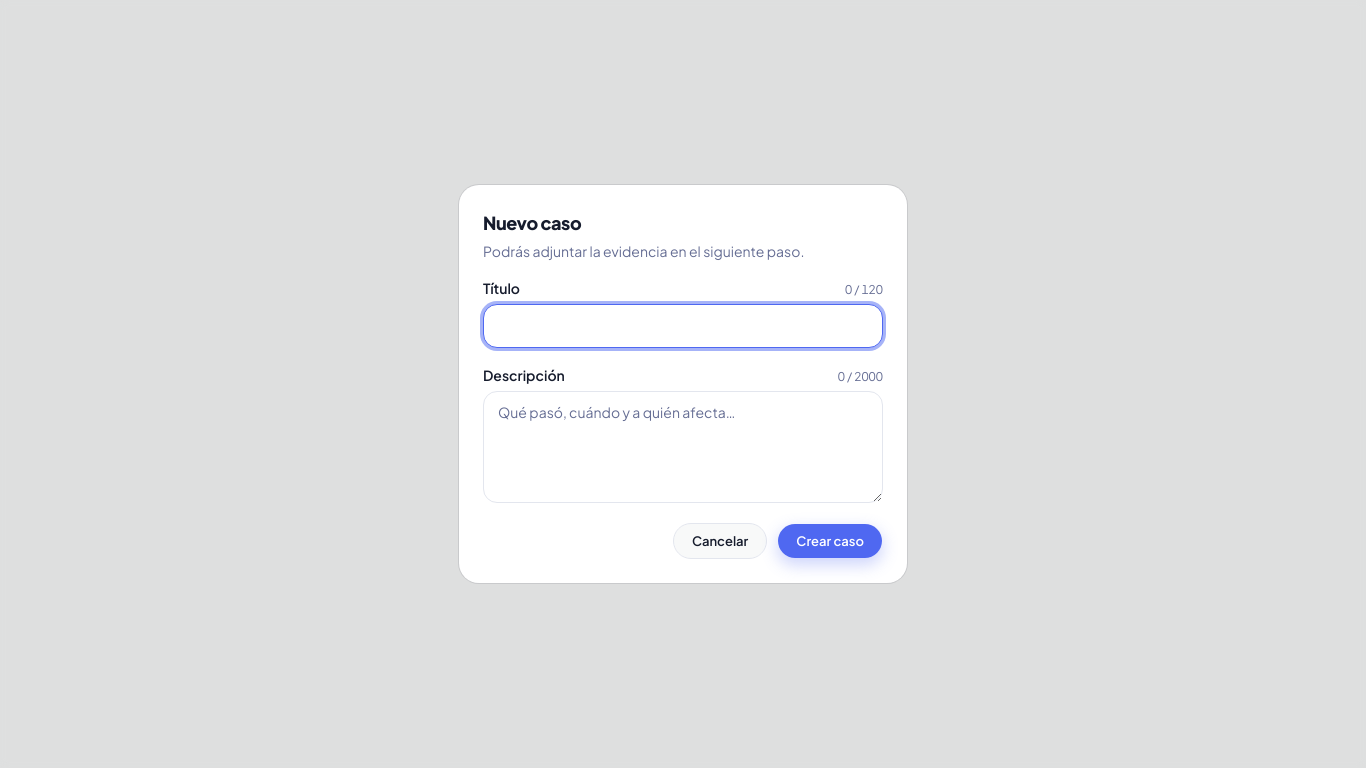
Test case: CaseFormDialog · a failed save › shows a field error under its field, with no notice
The width and height of the screenshot is (1366, 768).
In the field labelled "Título": (683, 326) top-left (483, 304), bottom-right (883, 348), type "Robo"
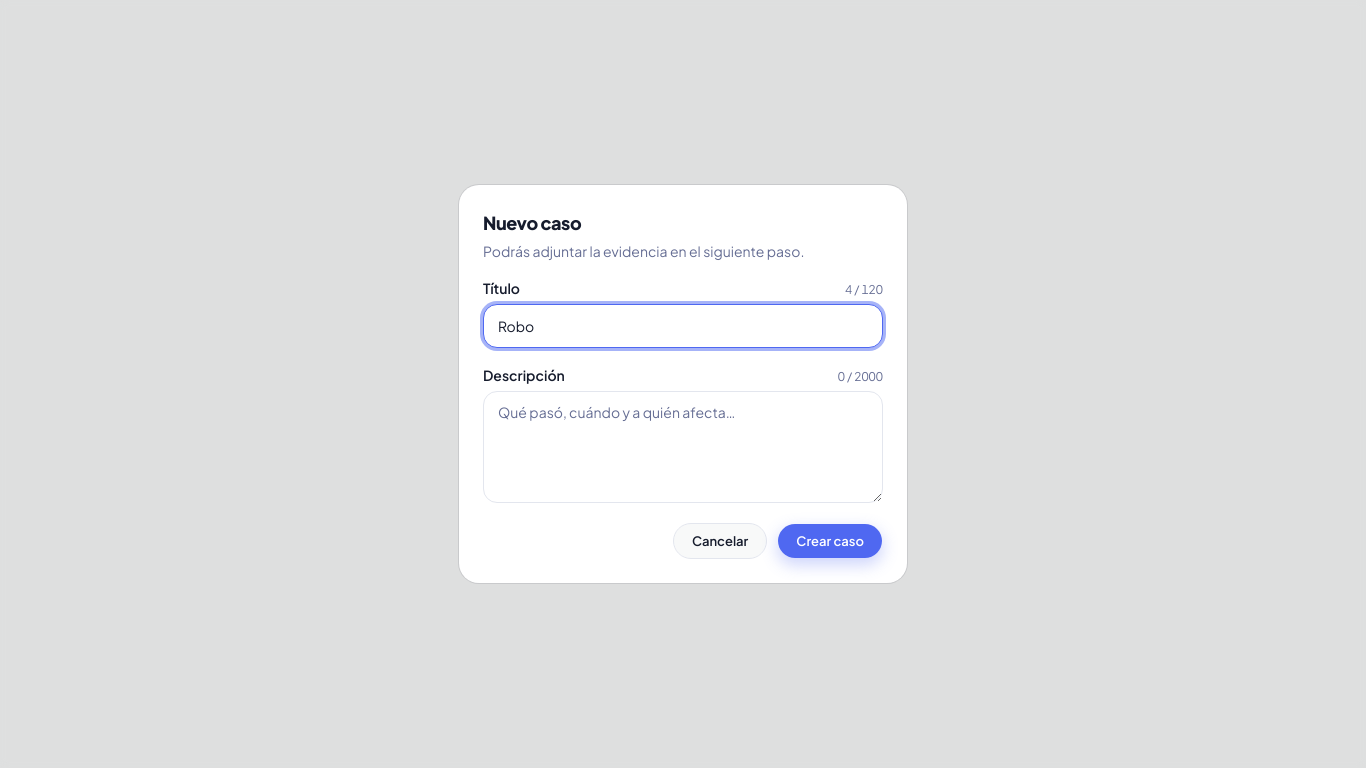
In the text box labelled "Descripción": (683, 447) top-left (483, 391), bottom-right (883, 503), type "Falta la denuncia."
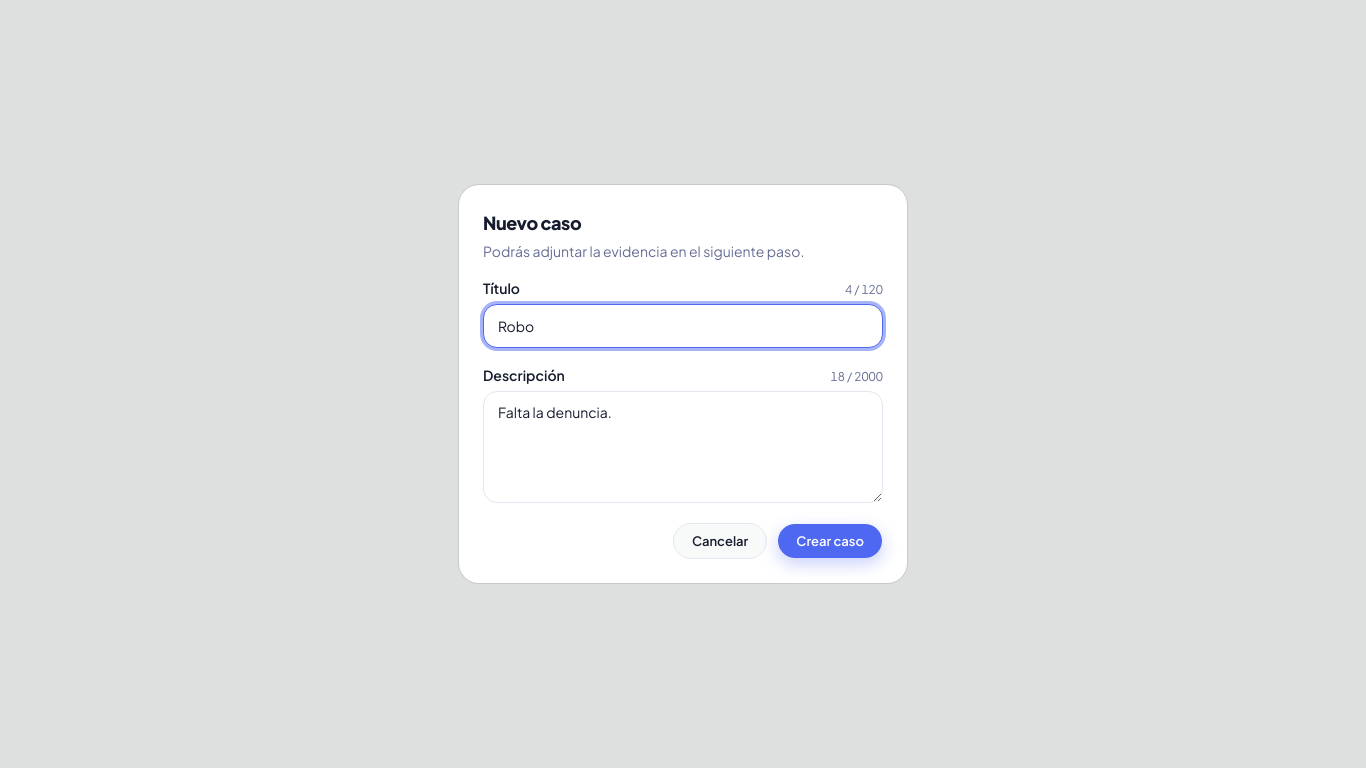
Click the button "Crear caso": (830, 541) top-left (777, 523), bottom-right (883, 559)
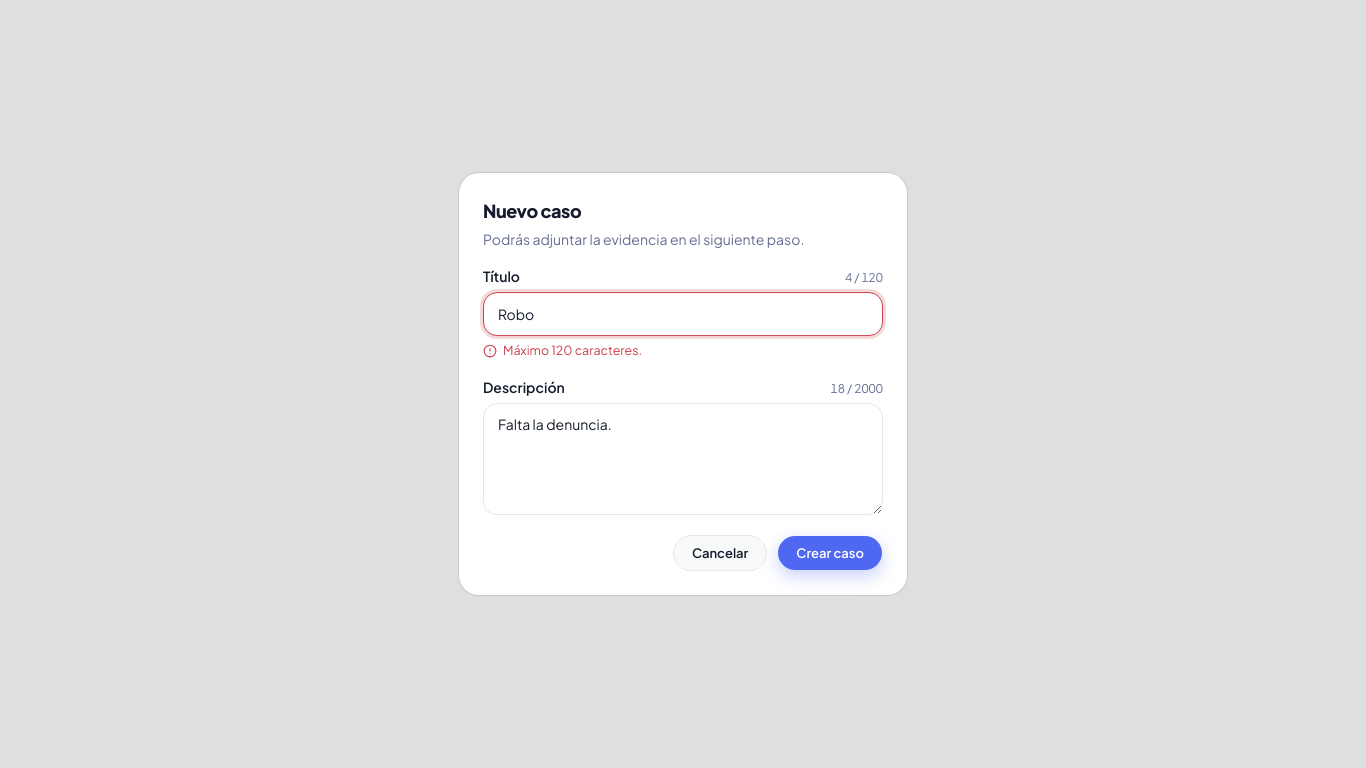
Check: the text "Máximo 120 caracteres." is shown, box top-left (483, 342), bottom-right (642, 358)
